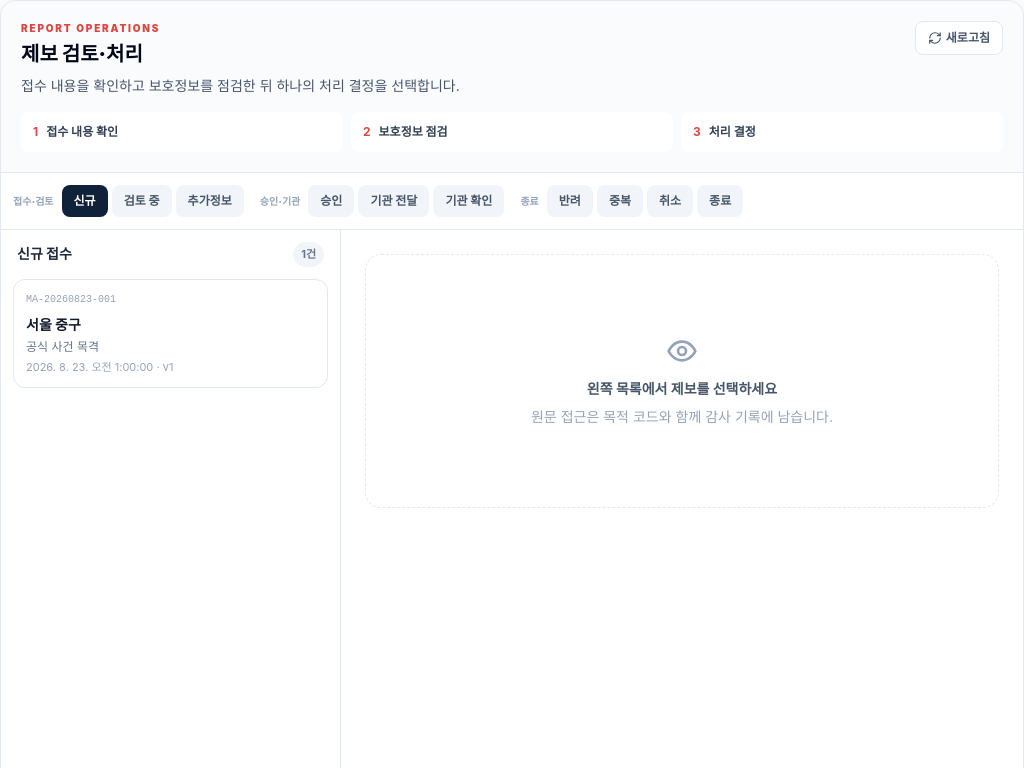
ReportsModerationV2 decision flow › shows review order and only the chosen decision form
Click the button that starts with "MA-20260823-001": coordinates (71, 299) top-left (13, 278), bottom-right (328, 388)
(page scrolled)
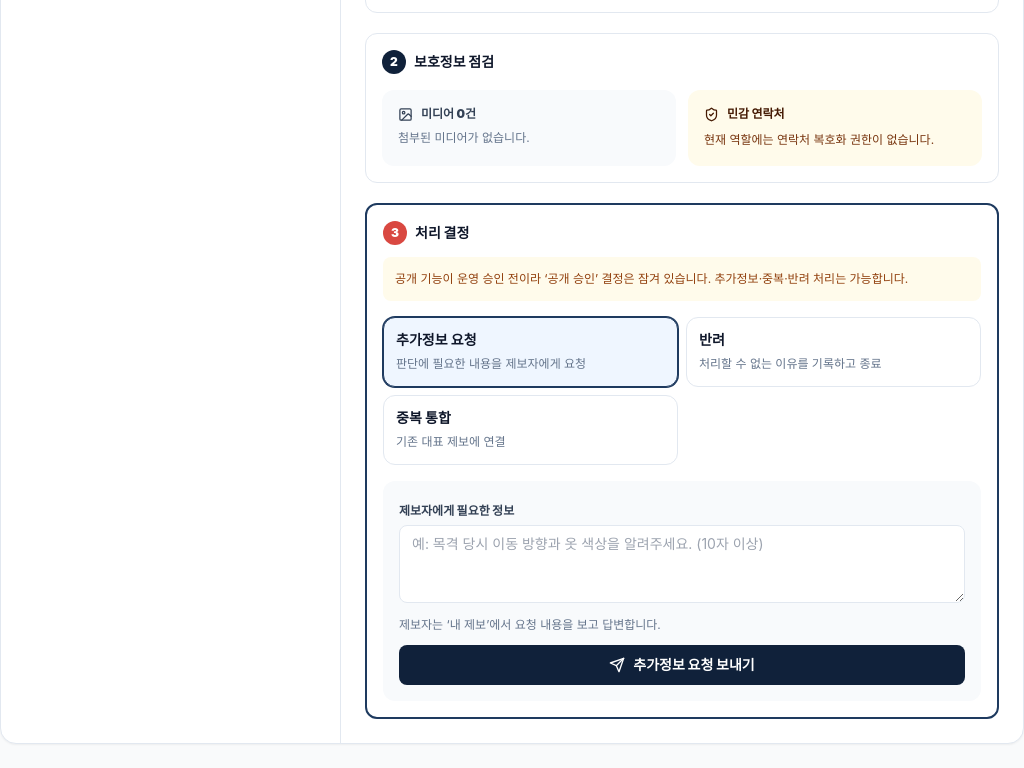
expect the text "공개 기능이 운영 승인 전이라" is shown: met, box top-left (395, 271), bottom-right (908, 286)
expect the text "추가정보 요청 보내기" is shown: met, box top-left (399, 645), bottom-right (965, 685)
Click the button "중복 통합 기존 대표 제보에 연결": coordinates (423, 418) top-left (383, 395), bottom-right (678, 465)
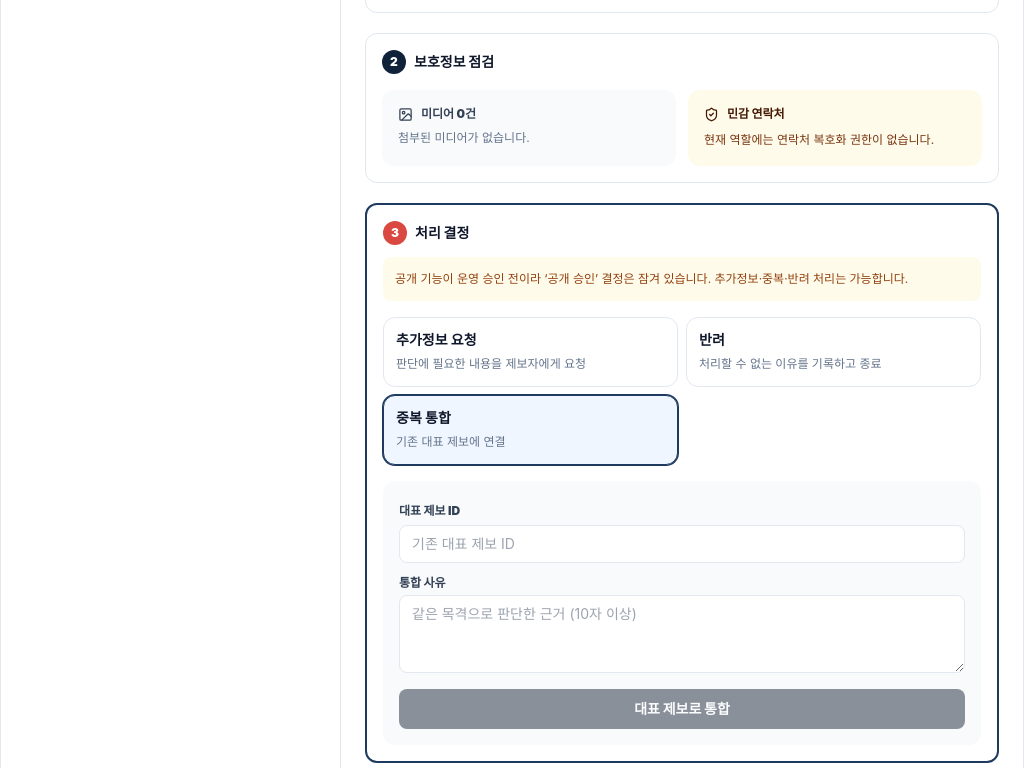
expect the text "대표 제보 ID" is shown: met, box top-left (399, 503), bottom-right (965, 552)
expect the text "추가정보 요청 보내기" is gone: met
